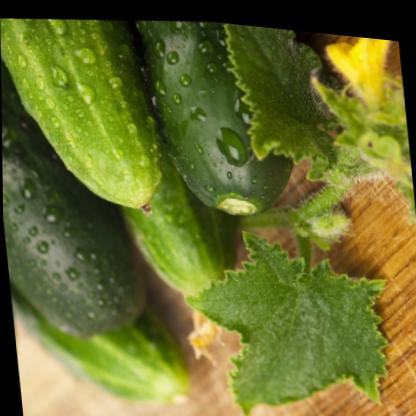cucumber: (0, 3, 178, 234), (154, 13, 319, 231)
